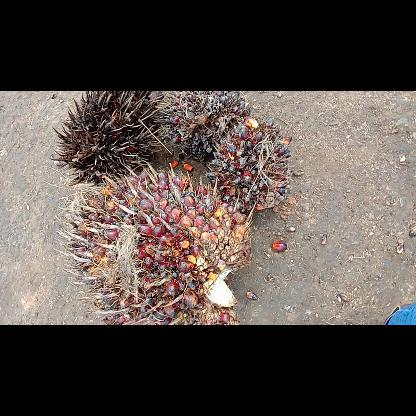Janjang kosong: (50, 92, 172, 184)
TBS abnormal: (204, 115, 294, 213), (152, 90, 252, 160)
TBS masak: (56, 162, 256, 324)
